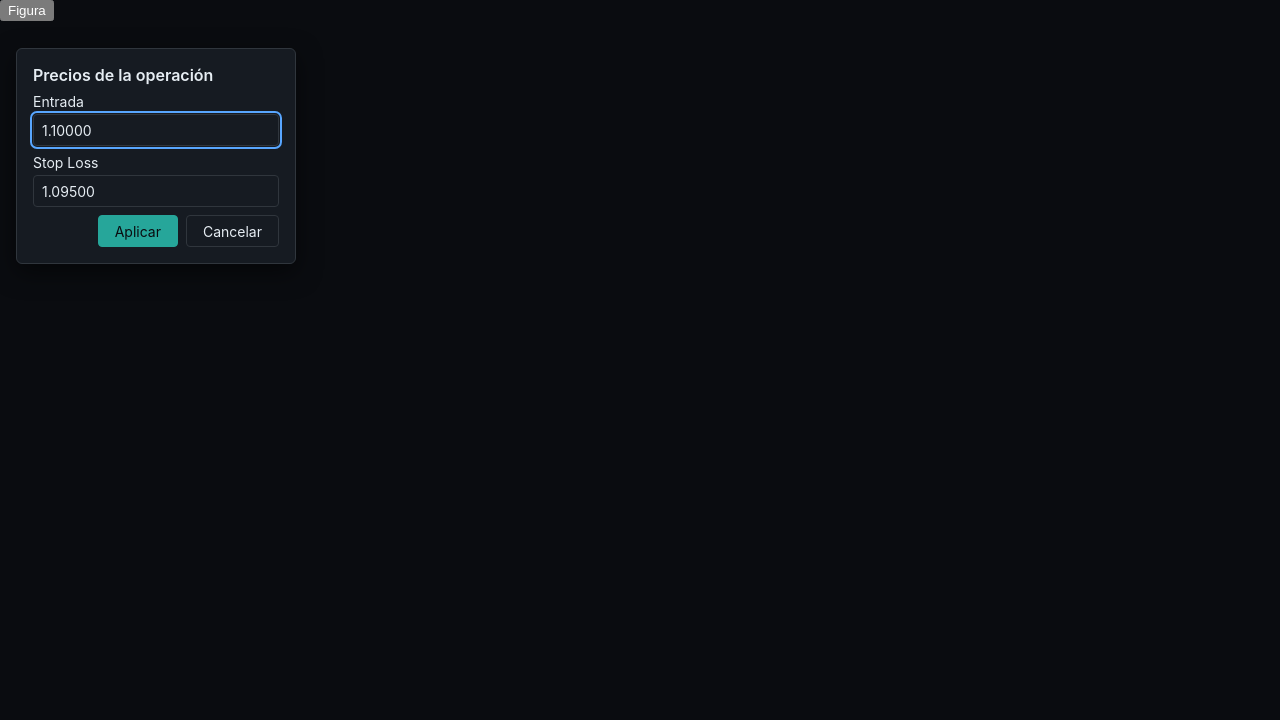
OperationNumericFields (CMP-025, RF-410) › muestra el error inline asociado al campo cuando el valor no es numérico
Step 1. Replace the text in the field labelled "Entrada" with "abc" → (156, 130), box [33,114,279,146]
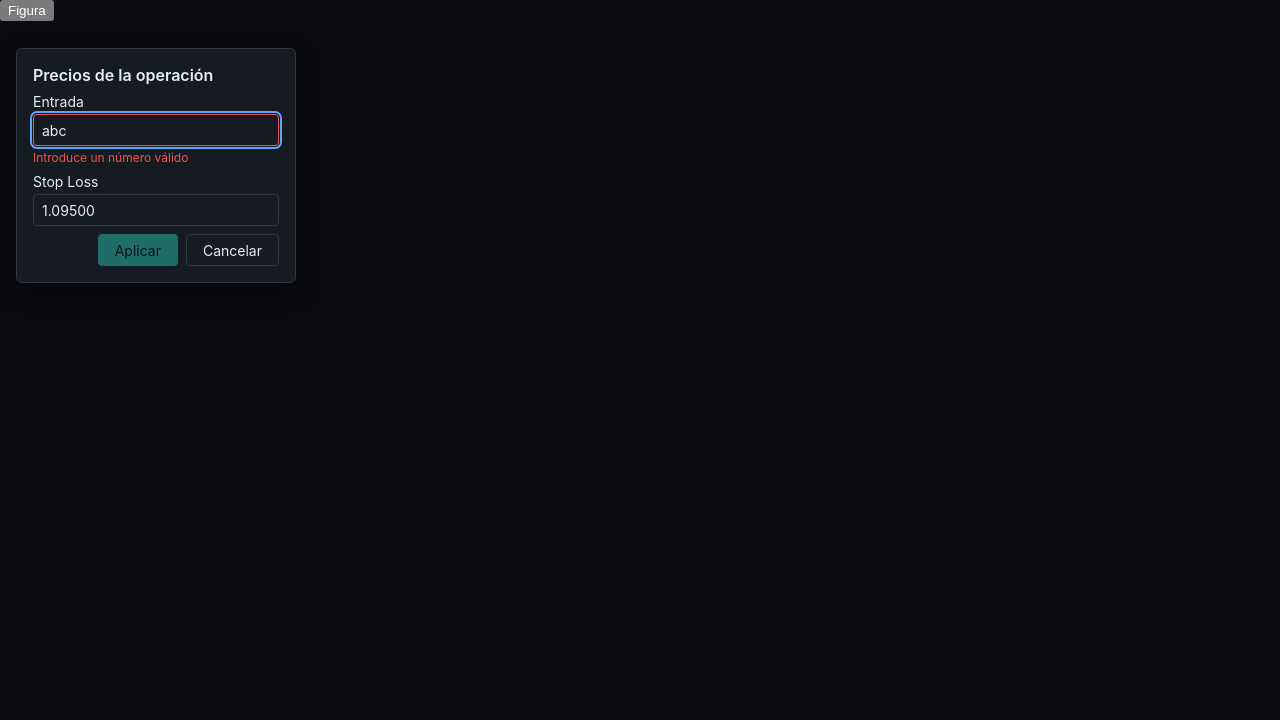
expect the message reads "Introduce un número válido": met, box [33,150,188,165]
